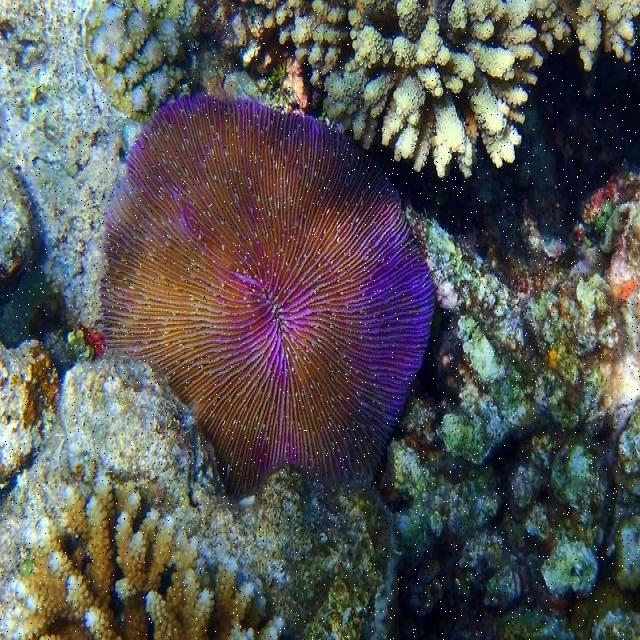reefs: (100, 95, 435, 504), (255, 0, 639, 178), (7, 478, 256, 638), (84, 0, 191, 121)
